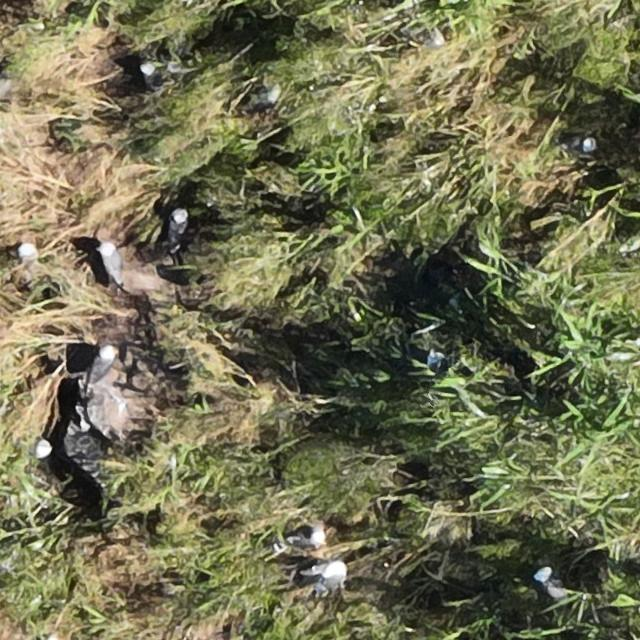umineko: (36, 439, 64, 484), (20, 242, 42, 283), (318, 563, 345, 590), (103, 245, 123, 280), (539, 572, 565, 598), (167, 210, 186, 244), (560, 135, 594, 153), (291, 529, 323, 548), (250, 88, 280, 108), (140, 62, 163, 88), (92, 349, 112, 376)
